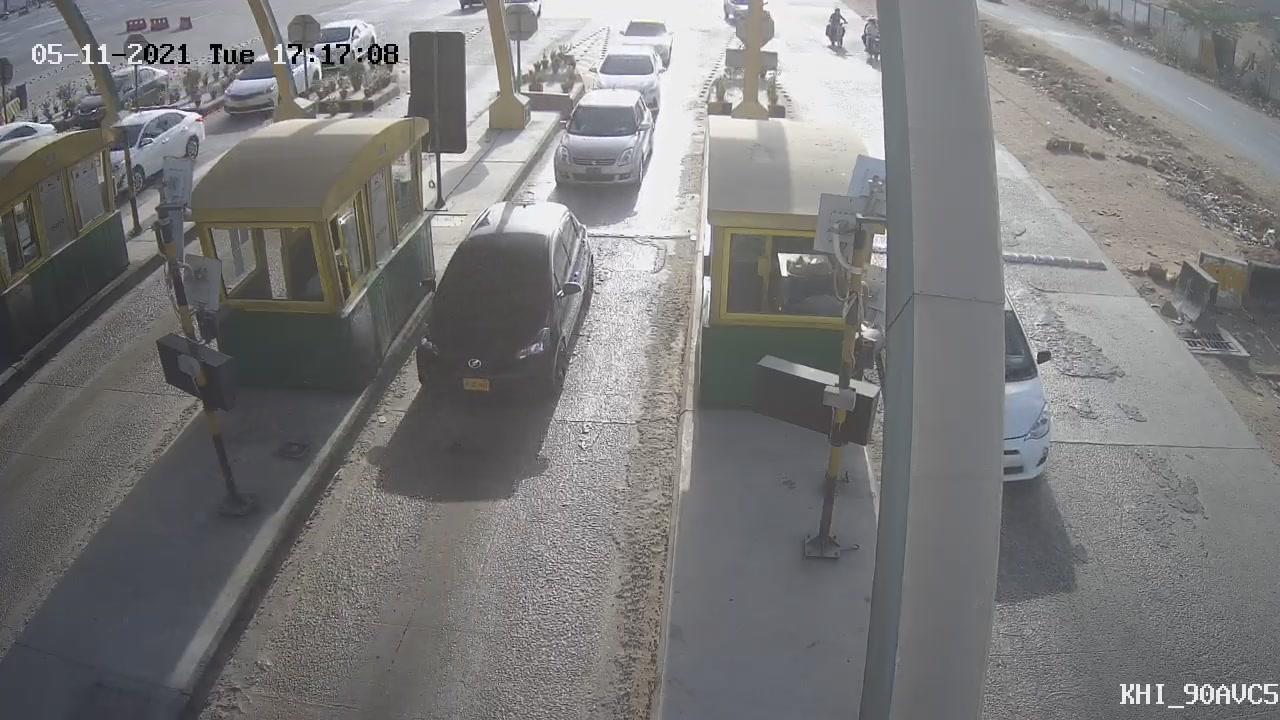F1: (386, 185, 616, 431), (534, 75, 666, 204)
